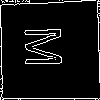M: (25, 25, 71, 68)
